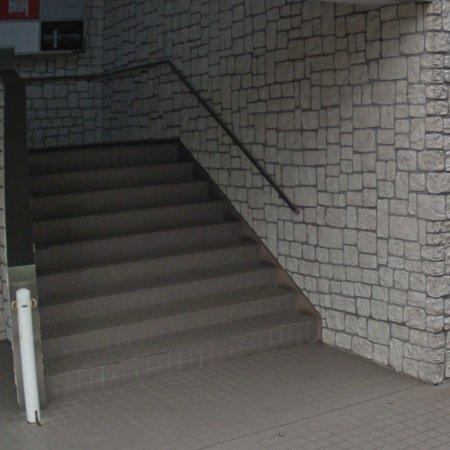stairs: (30, 143, 317, 397)
